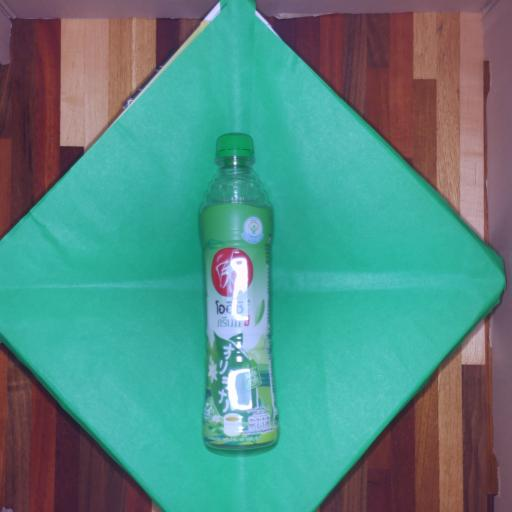bottle: (200, 134, 277, 449)
